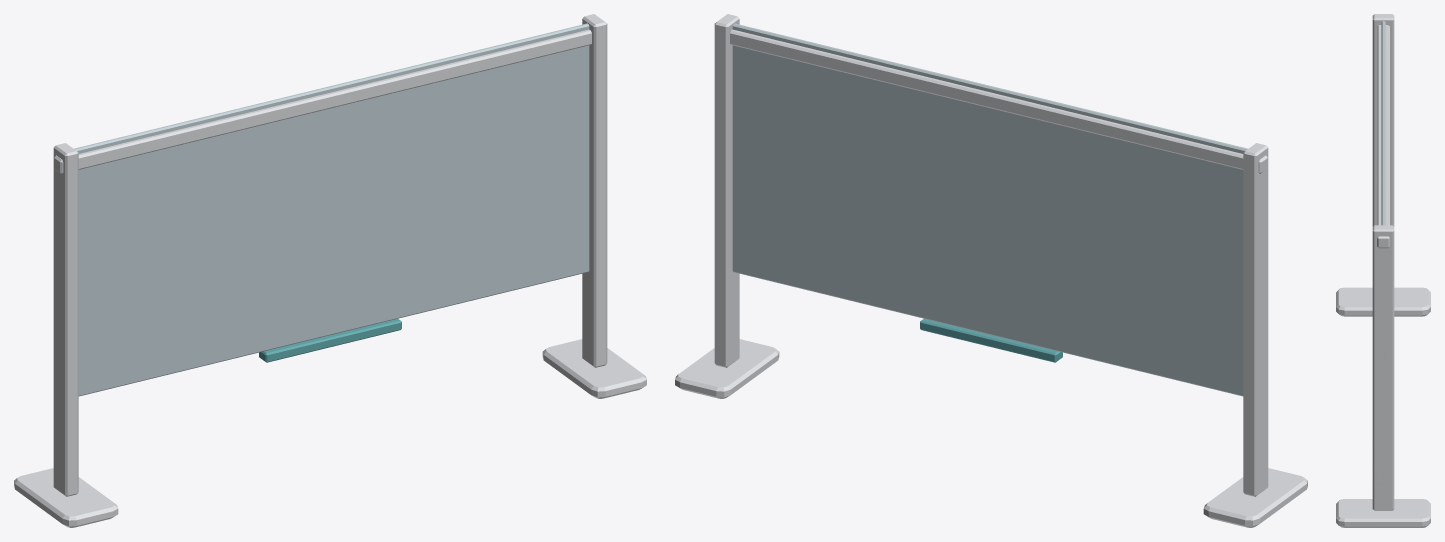
File: fast-food-and-drive-thru-counter-guard-screen-5319c1c5__16117.glb
The picture shows the model from 3 angles, left to right: view 1: azimuth 30°, elevation 25°; view 2: azimuth 150°, elevation 25°; view 3: azimuth 270°, elevation 25°; orthographic projection. The views are drawn at different scales.
Parts seen in each view (by area): view 1: counter-guard-screen; view 2: counter-guard-screen; view 3: counter-guard-screen.
Boxes of the visible parts, bbox=[...] form: counter-guard-screen: bbox=[14, 14, 646, 527]; counter-guard-screen: bbox=[675, 14, 1307, 527]; counter-guard-screen: bbox=[1336, 14, 1430, 527].
Bounding box in the file's own units: 1.28 × 0.746 × 0.22.
